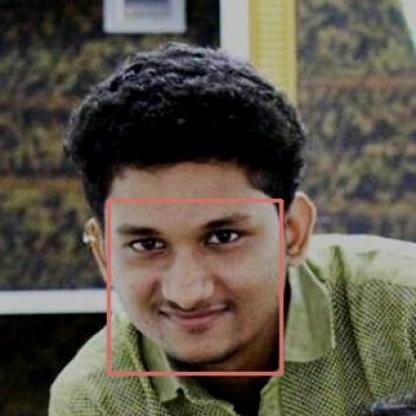without_mask: (108, 200, 281, 373)
